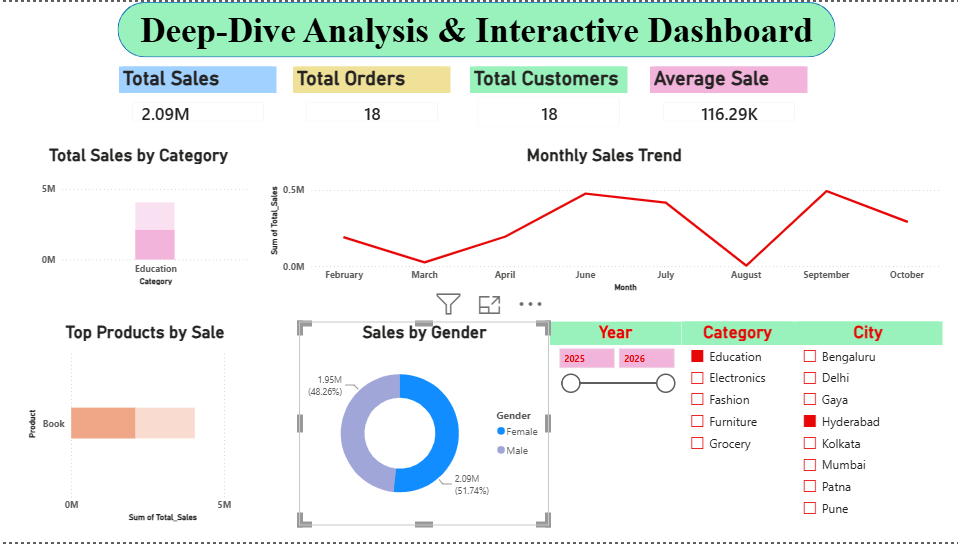

Layout of this report page (visuals, bound fields, positions):
{"tool":"powerbi","page":{"name":"Page 1","canvas":[1280,720],"ordinal":0},"visuals":[{"type":"cardVisual","title":"Total Sales","fields":{"Data":["Sum(Sheet1.Total_Sales)"]},"box":[160,86.2,210,90],"z":0},{"type":"cardVisual","title":"Total Orders","fields":{"Data":["CountNonNull(Sheet1.Order_ID)"]},"box":[392.5,86.2,210,90],"z":1000},{"type":"cardVisual","title":"Average Sale","fields":{"Data":["Avg(Sheet1.Total_Sales)"]},"box":[867.5,86.2,210,90],"z":2000},{"type":"cardVisual","title":"Total Customers","fields":{"Data":["Count(Sheet1.Customer_ID)"]},"box":[628.8,86.2,210,90],"z":3000},{"type":"textbox","box":[34,14.6,1224.1,58.3],"z":4000},{"type":"shape","box":[158.8,0,957.5,73.8],"z":5000},{"type":"clusteredColumnChart","title":"Total Sales by Category","fields":{"Category":["Sheet1.Category"],"Y":["Sum(Sheet1.Total_Sales)"]},"box":[34,190,304,192],"z":6000},{"type":"lineChart","title":"Monthly Sales Trend","fields":{"Category":["Sheet1.Order_Date.Variation.Date Hierarchy.Month"],"Y":["Sum(Sheet1.Total_Sales)"]},"box":[355.6,190,902.2,201.1],"z":7000},{"type":"clusteredBarChart","title":"Top Products by Sale","fields":{"Category":["Sheet1.Product"],"Y":["Sum(Sheet1.Total_Sales)"]},"box":[34.3,425.7,321.4,271.4],"z":8000},{"type":"donutChart","title":"Sales by Gender","fields":{"Category":["Sheet1.Gender"],"Y":["Sum(Sheet1.Total_Sales)"]},"box":[400,425.7,334.3,271.4],"z":9000},{"type":"slicer","title":"Year","fields":{"Values":["Sheet1.Year"]},"box":[734,426,176,224],"z":10000},{"type":"slicer","title":"Category","fields":{"Values":["Sheet1.Category"]},"box":[910,426,150,224],"z":11000},{"type":"slicer","title":"City","fields":{"Values":["Sheet1.City"]},"box":[1060,426,198,272],"z":12000}]}

Visuals, with their boxes in screenshot pixels (x1, y1, x2, y2), scaled from the page's 1280x720 canvas onto the 958x544 screenshot:
"Total Sales" cardVisual: (120, 65, 277, 133)
"Total Orders" cardVisual: (294, 65, 451, 133)
"Average Sale" cardVisual: (649, 65, 806, 133)
"Total Customers" cardVisual: (471, 65, 628, 133)
textbox: (25, 11, 942, 55)
shape: (119, 0, 835, 56)
"Total Sales by Category" clusteredColumnChart: (25, 144, 253, 289)
"Monthly Sales Trend" lineChart: (266, 144, 941, 295)
"Top Products by Sale" clusteredBarChart: (26, 322, 266, 527)
"Sales by Gender" donutChart: (299, 322, 550, 527)
"Year" slicer: (549, 322, 681, 491)
"Category" slicer: (681, 322, 793, 491)
"City" slicer: (793, 322, 942, 527)
